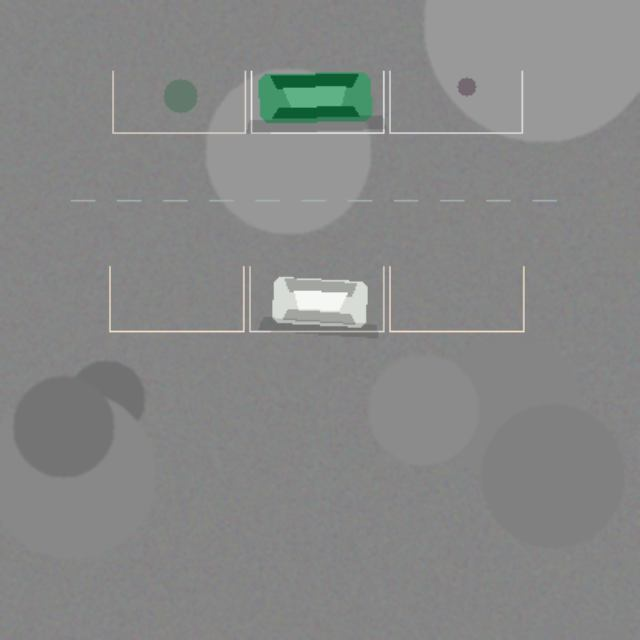space-empty: (109, 266, 243, 331), (389, 266, 523, 331), (112, 71, 245, 132), (389, 71, 522, 132)
space-occupied: (249, 266, 383, 331), (251, 71, 383, 132)
